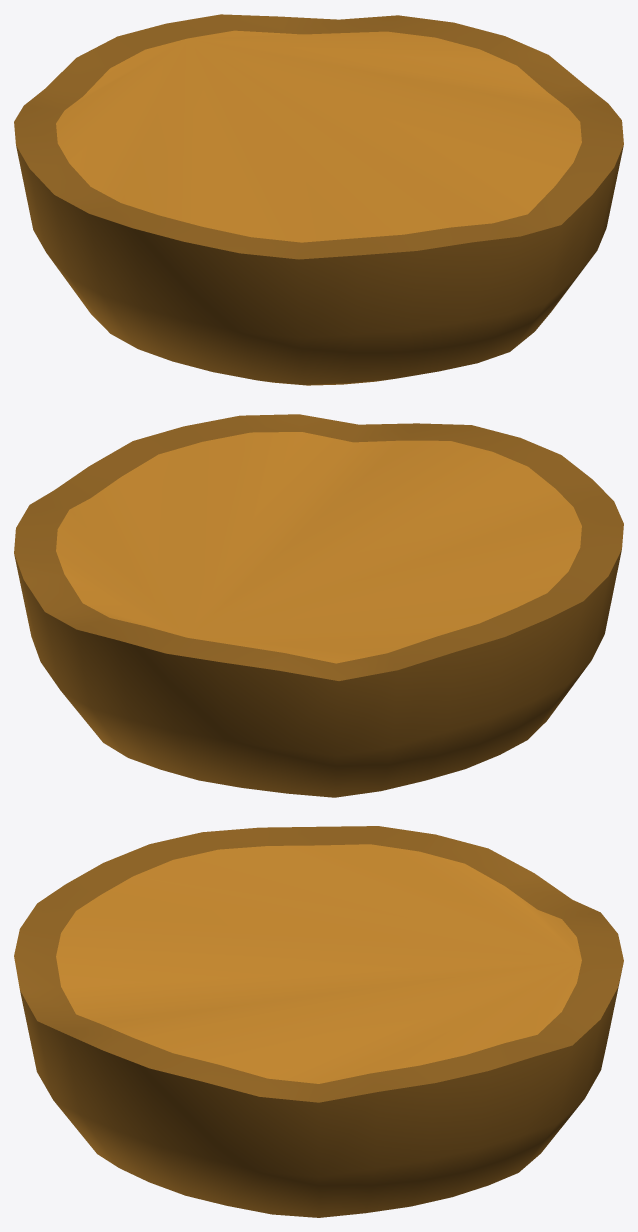
Rendered from tree1 base.fbx.
3 renders of one model, top to bottom at view 1: azimuth 30°, elevation 25°; view 2: azimuth 150°, elevation 25°; view 3: azimuth 270°, elevation 25°, orthographic.
Parts seen in each view (by area): view 1: Cylinder.013; view 2: Cylinder.013; view 3: Cylinder.013.
Boxes of the visible parts, <box> form: Cylinder.013: <box>14,14,623,385</box>; Cylinder.013: <box>14,414,623,797</box>; Cylinder.013: <box>14,826,623,1217</box>.
Size of the model in its own units: 46.61 by 15.85 by 46.61.
